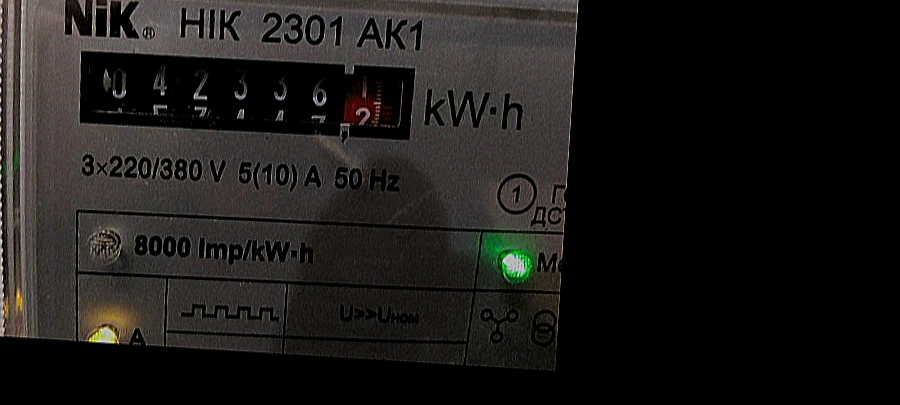0: (109, 64, 131, 100)
1: (358, 71, 372, 100)
2: (190, 65, 212, 102), (353, 104, 373, 126)
3: (231, 64, 253, 103), (269, 66, 292, 103)
4: (150, 60, 172, 98)
6: (308, 71, 332, 108)
screen: (69, 37, 426, 152)
